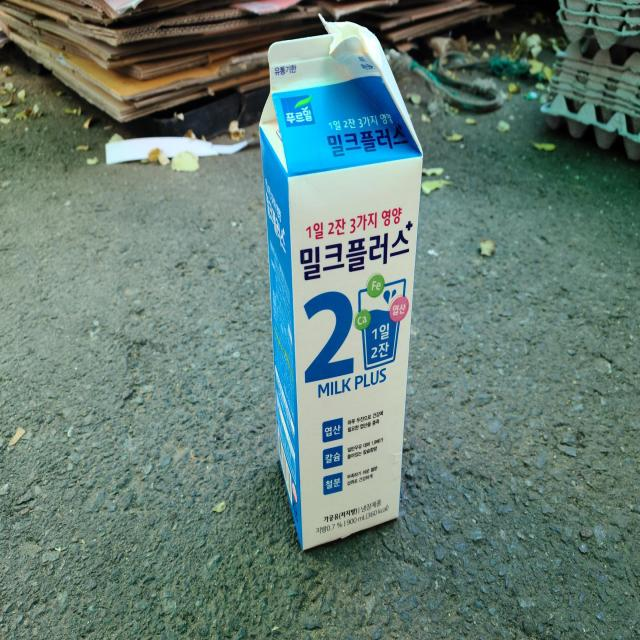paperpack: (259, 19, 423, 550)
